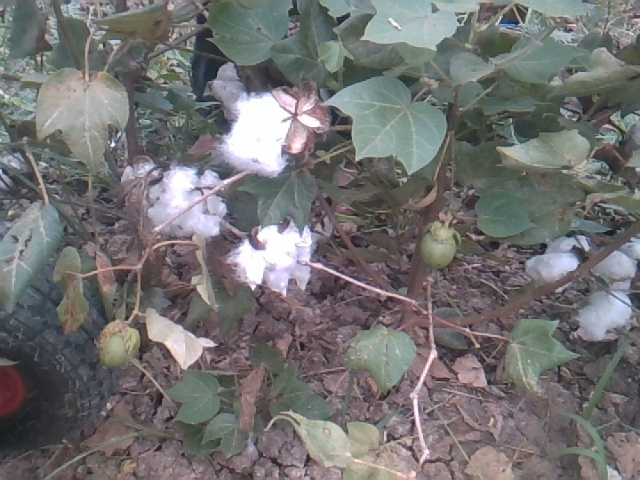cotton: (215, 85, 315, 182), (120, 161, 228, 248), (223, 222, 315, 298), (528, 231, 592, 296), (568, 211, 640, 260), (572, 291, 635, 343), (588, 244, 640, 297)
